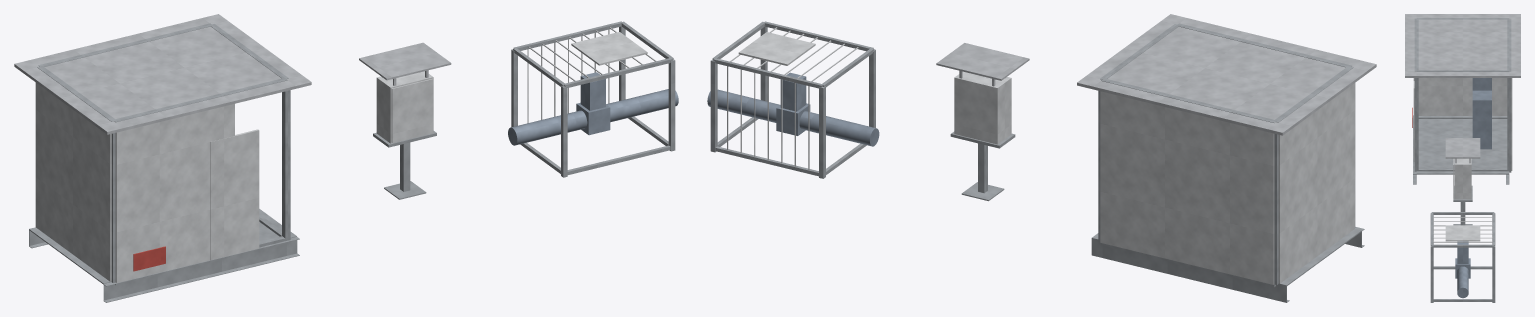
File: protective-equipment-housings.glb
3 views of the same model, side by side, from view 1: azimuth 30°, elevation 25°; view 2: azimuth 150°, elevation 25°; view 3: azimuth 270°, elevation 25° (orthographic). The views are drawn at different scales.
Visible parts, largest first — view 1: PanelsDoors&Mesh, Sunshades&Roofs, HousingFrames, Bases&Stands, Instruments&Valves(context), GlandPlates; view 2: PanelsDoors&Mesh, Sunshades&Roofs, HousingFrames, Bases&Stands, Instruments&Valves(context); view 3: Sunshades&Roofs, PanelsDoors&Mesh, HousingFrames, Bases&Stands, Instruments&Valves(context).
Part boxes in pixels (x1=…): PanelsDoors&Mesh: x1=35, y1=27, x2=656, y2=282; Sunshades&Roofs: x1=14, y1=14, x2=451, y2=134; HousingFrames: x1=37, y1=21, x2=675, y2=285; Bases&Stands: x1=29, y1=142, x2=426, y2=302; Instruments&Valves(context): x1=508, y1=72, x2=678, y2=145; GlandPlates: x1=133, y1=246, x2=165, y2=271; PanelsDoors&Mesh: x1=727, y1=27, x2=1354, y2=284; Sunshades&Roofs: x1=936, y1=14, x2=1376, y2=135; HousingFrames: x1=710, y1=21, x2=1355, y2=287; Bases&Stands: x1=961, y1=143, x2=1364, y2=302; Instruments&Valves(context): x1=707, y1=72, x2=879, y2=146; Sunshades&Roofs: x1=1405, y1=14, x2=1520, y2=163; PanelsDoors&Mesh: x1=1413, y1=78, x2=1512, y2=242; HousingFrames: x1=1414, y1=18, x2=1511, y2=302; Bases&Stands: x1=1413, y1=115, x2=1509, y2=225; Instruments&Valves(context): x1=1455, y1=78, x2=1491, y2=298.
Size of the model in its own units: 11.4 by 3.15 by 3.
5 materials, 5 textured.
